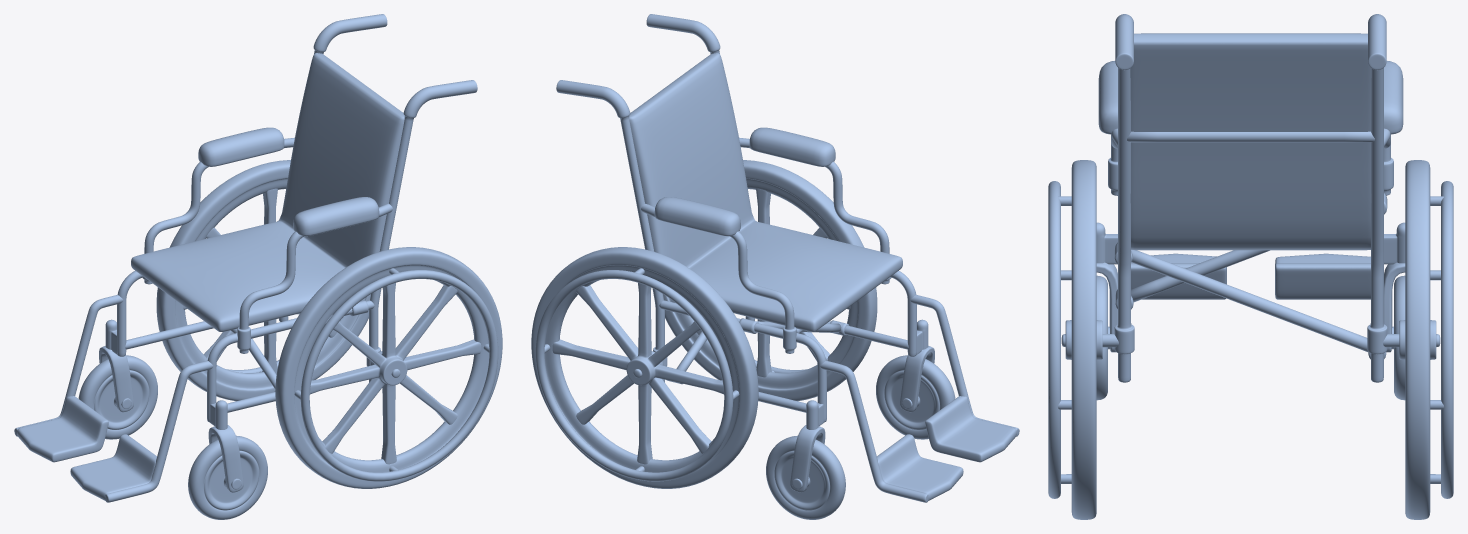
The model's file is wheelchair.fbx.
3 renders of one model, left to right at view 1: azimuth 30°, elevation 25°; view 2: azimuth 150°, elevation 25°; view 3: azimuth 270°, elevation 25°, orthographic. The views are drawn at different scales.
Visible parts, largest first — view 1: 17099_Wheelchair_v1; view 2: 17099_Wheelchair_v1; view 3: 17099_Wheelchair_v1.
Part boxes in pixels (box(x1,y1,x2,y2)): 17099_Wheelchair_v1: box(14, 14, 502, 519); 17099_Wheelchair_v1: box(531, 14, 1019, 519); 17099_Wheelchair_v1: box(1048, 14, 1453, 519).
Size of the model in its own units: 10875 by 10072 by 7073.
